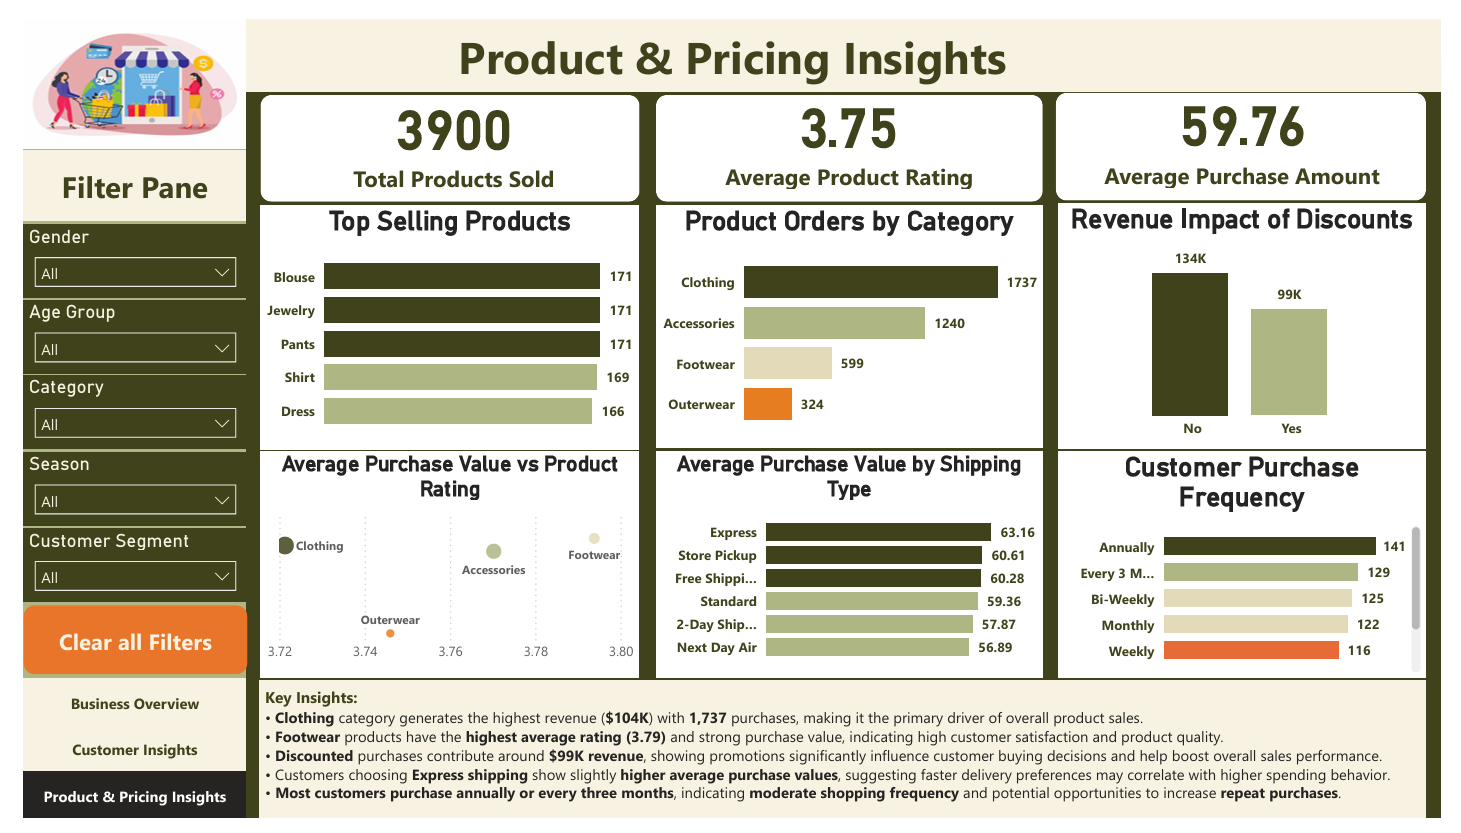

The page's visual inventory and layout, read from the dashboard file:
{"tool":"powerbi","page":{"name":"Product & Pricing Insights","canvas":[1280,720],"ordinal":2},"visuals":[{"type":"shape","box":[0,0,1279.5,65],"z":0},{"type":"columnChart","title":"Revenue Impact of Discounts","fields":{"Category":["customer_shopping_behavior.discount_applied"],"Y":["Sum(customer_shopping_behavior.purchase_amount)"]},"box":[933.6,166.3,332.6,221.1],"z":1000},{"type":"shape","box":[0,0,201.4,719.2],"z":2000},{"type":"shape","box":[213.5,68,342,96.4],"z":3000},{"type":"scatterChart","title":"Average Purchase Value vs Product Rating","fields":{"X":["Avg(customer_shopping_behavior.review_rating)"],"Y":["Avg(customer_shopping_behavior.purchase_amount)"],"Series":["customer_shopping_behavior.category"],"Size":["Sum(customer_shopping_behavior.purchase_amount)1"]},"box":[213.5,389.3,342,204.1],"z":4000},{"type":"clusteredBarChart","title":"Top Selling Products","fields":{"Category":["customer_shopping_behavior.item_purchased"],"Y":["CountNonNull(customer_shopping_behavior.item_purchased)"]},"box":[213.5,168.2,342,220],"z":5000},{"type":"card","fields":{"Values":["CountNonNull(customer_shopping_behavior.item_purchased)"]},"box":[238.1,60.5,300.5,105.8],"z":6000},{"type":"image","box":[0,0,201.4,116.6],"z":7000},{"type":"slicer","title":"Gender","fields":{"Values":["customer_shopping_behavior.gender"]},"box":[0,185,202.2,66.1],"z":8000},{"type":"slicer","title":"Age Group","fields":{"Values":["customer_shopping_behavior.age_group"]},"box":[0,253,202.2,66.1],"z":9000},{"type":"slicer","title":"Category","fields":{"Values":["customer_shopping_behavior.category"]},"box":[0,321,202.2,66.1],"z":10000},{"type":"slicer","title":"Season","fields":{"Values":["customer_shopping_behavior.season"]},"box":[0,390,202.2,66.1],"z":11000},{"type":"slicer","title":"Customer Segment","fields":{"Values":["customer_shopping_behavior.customer_segment"]},"box":[0,459,202.2,66.1],"z":12000},{"type":"shape","box":[0,117.7,201.4,64.1],"z":13000},{"type":"actionButton","box":[0,528,202.2,62.4],"z":14000},{"type":"pageNavigator","box":[0,593.6,201.4,126.8],"z":15000},{"type":"barChart","title":"Customer Purchase Frequency","fields":{"Category":["customer_shopping_behavior.frequency_of_purchases"],"Y":["Count(customer_shopping_behavior.customer_id)"]},"box":[933.6,389.3,332.6,204.1],"z":16000},{"type":"shape","box":[570.7,68,349.6,96.4],"z":17000},{"type":"card","fields":{"Values":["Avg(customer_shopping_behavior.review_rating)"]},"box":[589.6,58.6,311.8,105.8],"z":18000},{"type":"shape","box":[931.7,66.1,334.5,96.4],"z":19000},{"type":"card","fields":{"Values":["Avg(customer_shopping_behavior.purchase_amount)"]},"box":[950.6,56.7,298.6,105.8],"z":20000},{"type":"clusteredBarChart","title":"Product Orders by Category","fields":{"Category":["customer_shopping_behavior.category"],"Y":["CountNonNull(customer_shopping_behavior.item_purchased)"]},"box":[570.7,168.2,349.6,219.2],"z":21000},{"type":"clusteredBarChart","title":"Average Purchase Value by Shipping Type","fields":{"Category":["customer_shopping_behavior.shipping_type"],"Y":["Avg(customer_shopping_behavior.purchase_amount)"]},"box":[570.7,389.3,349.6,204.1],"z":22000},{"type":"textbox","box":[213.1,595.8,1052.6,124.2],"z":23000}]}

Visuals, with their boxes in screenshot pixels (x1, y1, x2, y2), scaled from the page's 1280x720 canvas onto the 1461x833 screenshot:
shape: rect(0, 0, 1460, 75)
"Revenue Impact of Discounts" columnChart: rect(1066, 192, 1445, 448)
shape: rect(0, 0, 230, 832)
shape: rect(244, 79, 634, 190)
"Average Purchase Value vs Product Rating" scatterChart: rect(244, 450, 634, 687)
"Top Selling Products" clusteredBarChart: rect(244, 195, 634, 449)
card - CountNonNull(customer_shopping_behavior.item_purchased): rect(272, 70, 615, 192)
image: rect(0, 0, 230, 135)
"Gender" slicer: rect(0, 214, 231, 291)
"Age Group" slicer: rect(0, 293, 231, 369)
"Category" slicer: rect(0, 371, 231, 448)
"Season" slicer: rect(0, 451, 231, 528)
"Customer Segment" slicer: rect(0, 531, 231, 608)
shape: rect(0, 136, 230, 210)
actionButton: rect(0, 611, 231, 683)
pageNavigator: rect(0, 687, 230, 832)
"Customer Purchase Frequency" barChart: rect(1066, 450, 1445, 687)
shape: rect(651, 79, 1050, 190)
card - Avg(customer_shopping_behavior.review_rating): rect(673, 68, 1029, 190)
shape: rect(1063, 76, 1445, 188)
card - Avg(customer_shopping_behavior.purchase_amount): rect(1085, 66, 1426, 188)
"Product Orders by Category" clusteredBarChart: rect(651, 195, 1050, 448)
"Average Purchase Value by Shipping Type" clusteredBarChart: rect(651, 450, 1050, 687)
textbox: rect(243, 689, 1445, 832)
